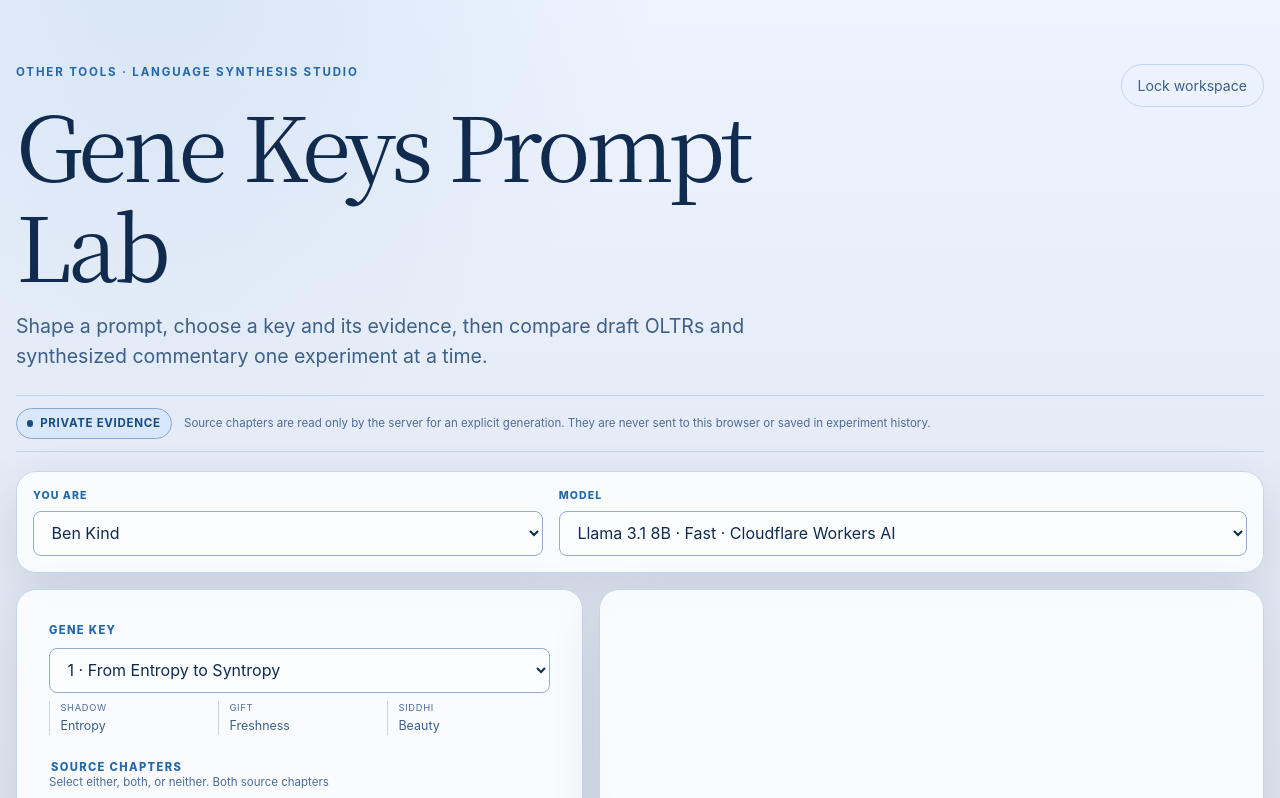
Scenario: GeneKeysPromptLabView › keeps the workspace unlocked when the server cannot end the session
Step 1. Click the button "Lock workspace" → (1192, 86), box [1121, 64, 1264, 107]
(page scrolled)
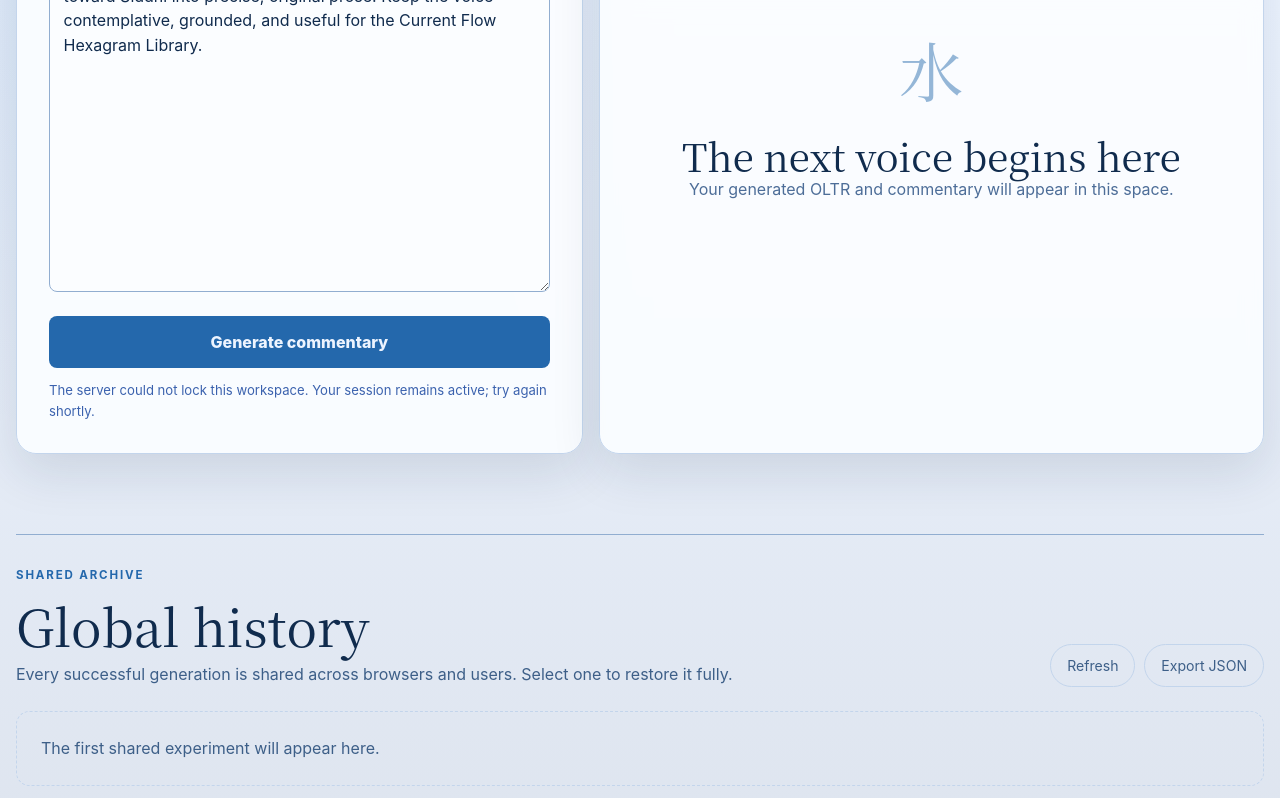
Now the message shows "session remains active", box [49, 382, 547, 419]
